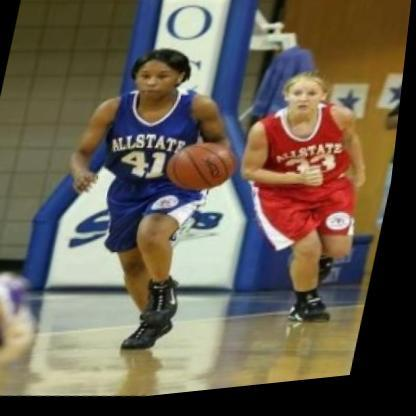basketball: (164, 137, 247, 202)
